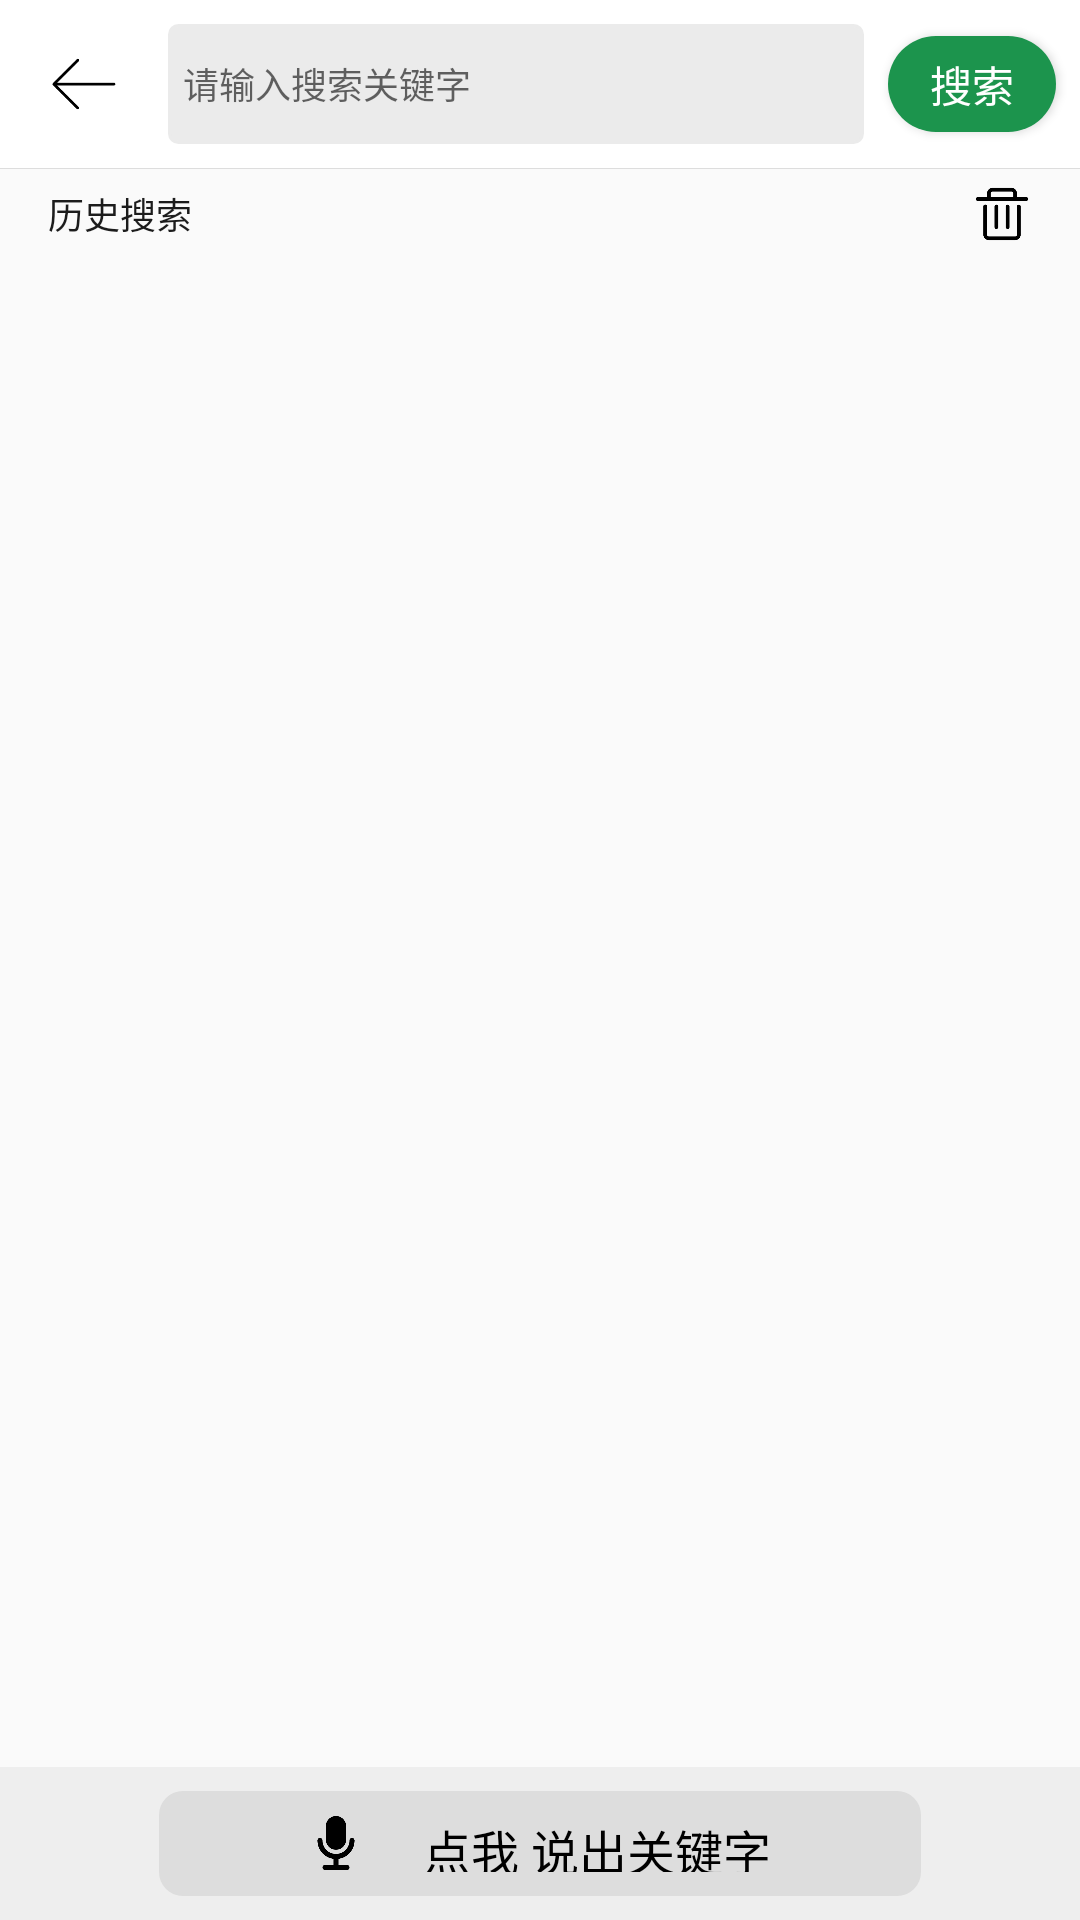

Named icons in this screenshot (1080x1920) and their centers, (x,y):
back: (84,84)
recycle bin: (1002,214)
voice: (336,1843)
